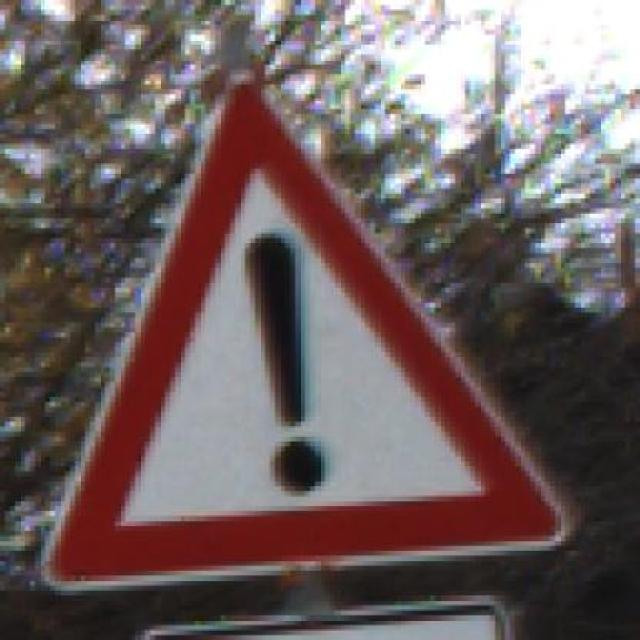Attention Please-: (40, 70, 575, 596)
